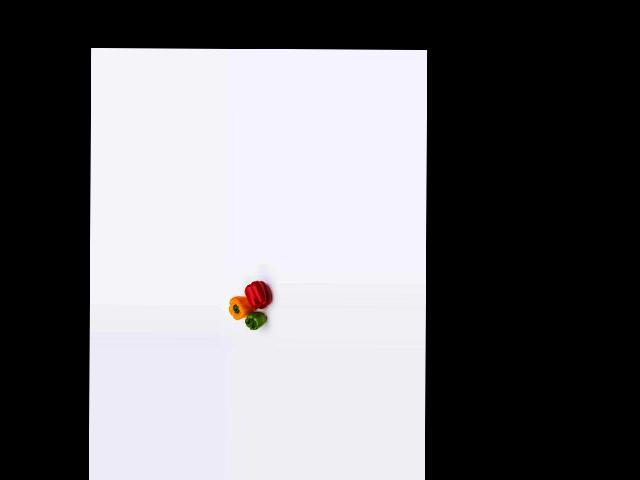bell_pepper: (243, 310, 267, 334)
